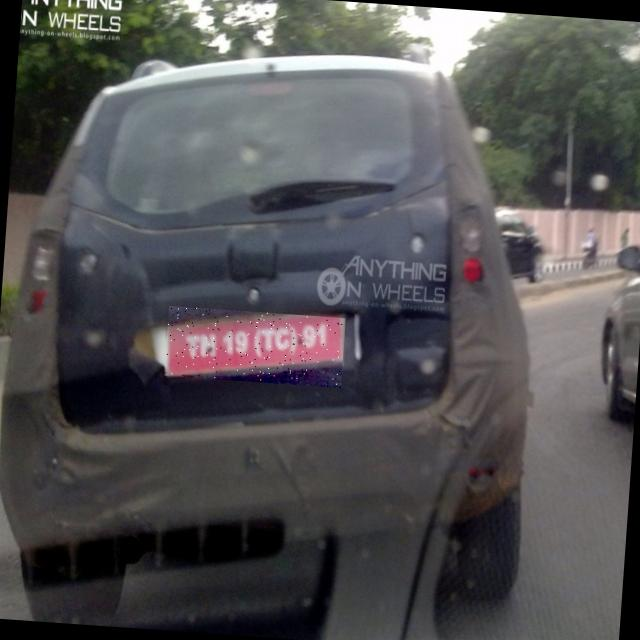Plate: (165, 307, 346, 389)
